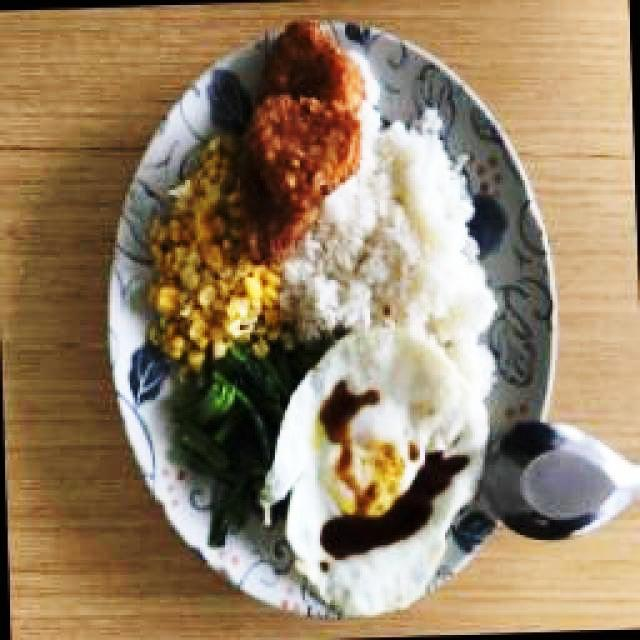Hashbrown: (250, 94, 363, 203), (263, 22, 362, 112), (250, 155, 322, 260)
fried_eggs: (267, 330, 486, 611)
rice: (288, 123, 497, 388)
water_spinach: (178, 352, 298, 548)
